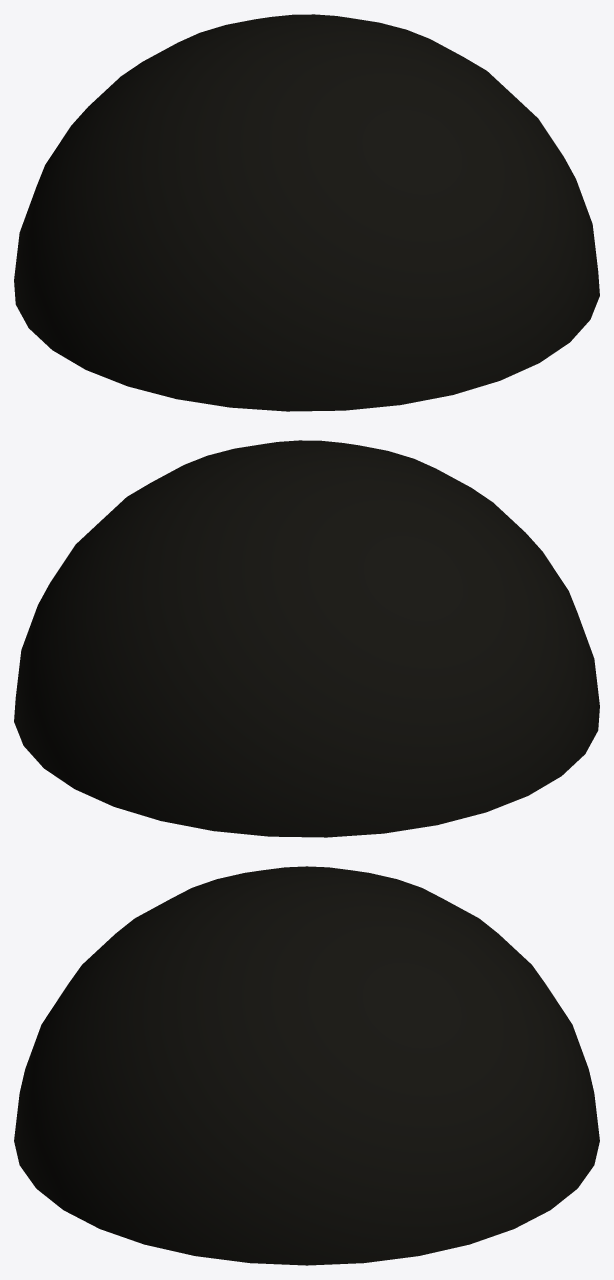
Rendered from capsulaMickey.obj.
3 renders of one model, top to bottom at view 1: azimuth 30°, elevation 25°; view 2: azimuth 150°, elevation 25°; view 3: azimuth 270°, elevation 25°, orthographic.
Parts seen in each view (by area): view 1: capsulaMickey:MeshpolySurface24polySurface20; view 2: capsulaMickey:MeshpolySurface24polySurface20; view 3: capsulaMickey:MeshpolySurface24polySurface20.
Part boxes in pixels (bbox=[...]): capsulaMickey:MeshpolySurface24polySurface20: bbox=[14, 14, 599, 411]; capsulaMickey:MeshpolySurface24polySurface20: bbox=[14, 440, 599, 837]; capsulaMickey:MeshpolySurface24polySurface20: bbox=[14, 866, 599, 1265].
Bounding box in the file's own units: 2.69 × 1.24 × 2.68.
1 material, 1 textured.
